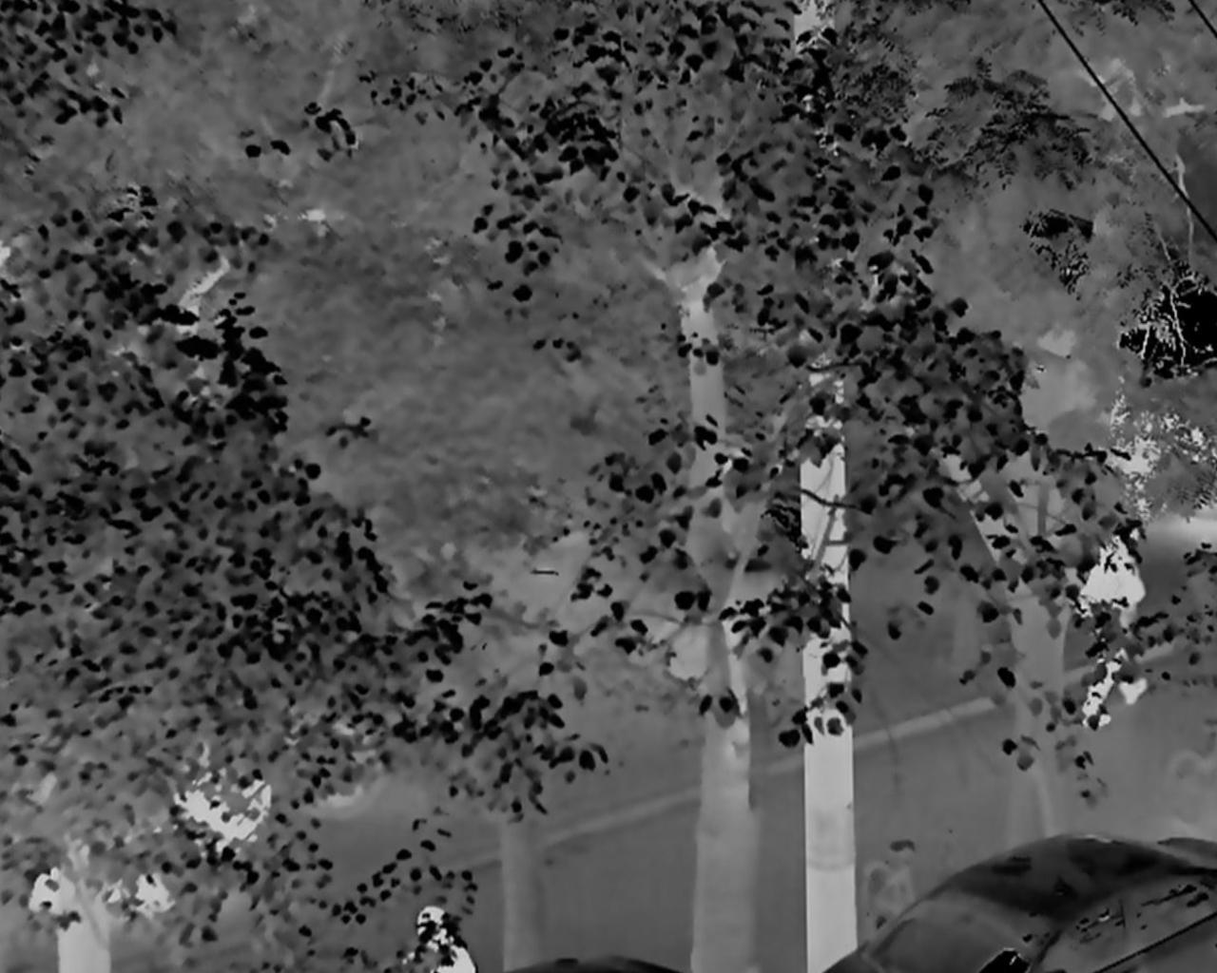person: (1079, 522, 1149, 728)
